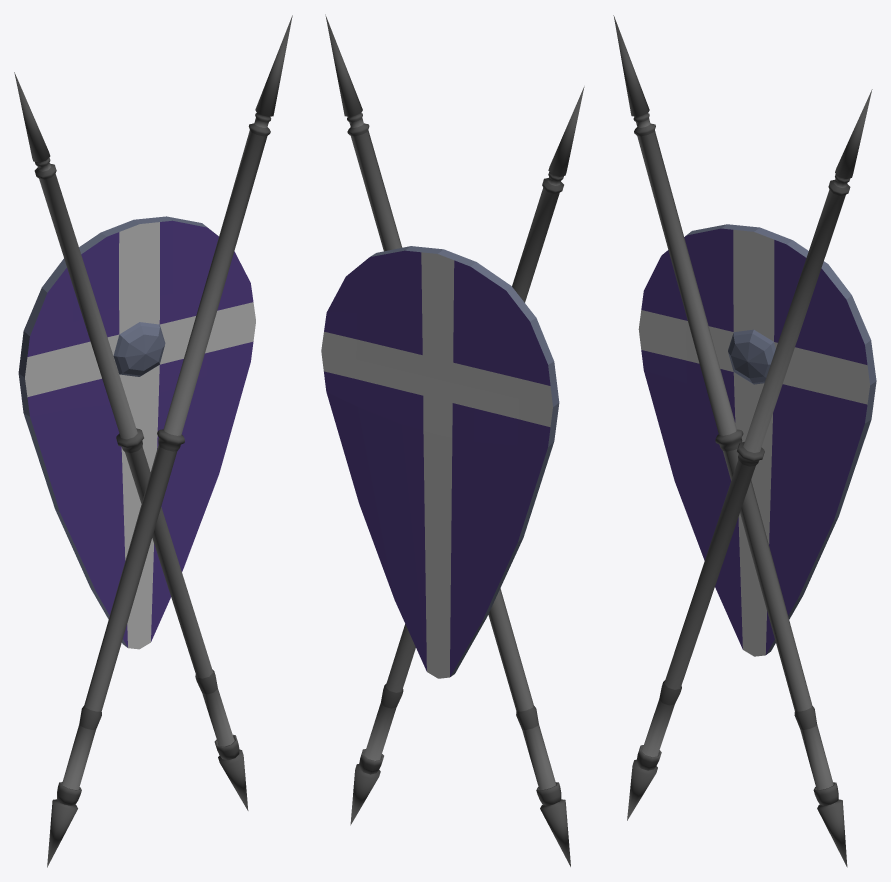
The model's file is Comb_1_.fbx.
3 renders of one model, left to right at view 1: azimuth 30°, elevation 25°; view 2: azimuth 150°, elevation 25°; view 3: azimuth 330°, elevation 25°, orthographic.
Visible parts, largest first — view 1: Shield 1.006, Sword 1.001; view 2: Shield 1.006, Sword 1.001; view 3: Shield 1.006, Sword 1.001.
Part boxes in pixels (bbox=[...]): Shield 1.006: bbox=[18, 216, 255, 649]; Sword 1.001: bbox=[14, 15, 292, 867]; Shield 1.006: bbox=[321, 246, 559, 678]; Sword 1.001: bbox=[325, 14, 584, 866]; Shield 1.006: bbox=[638, 224, 876, 656]; Sword 1.001: bbox=[613, 15, 872, 867].
Size of the model in its own units: 70.43 by 200 by 14.01.
